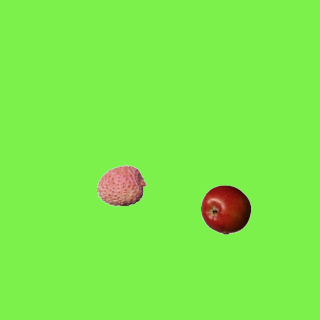Apple Braeburn: (200, 184, 250, 234)
Lychee: (96, 160, 146, 210)
